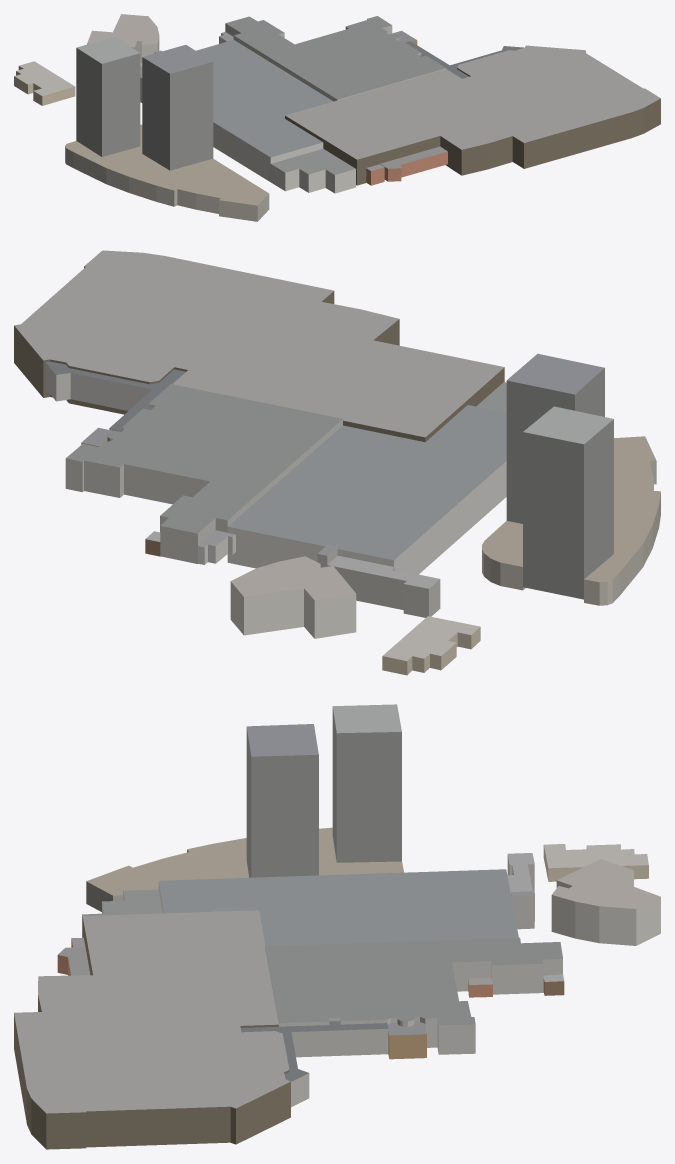
The picture shows the model from 3 angles, top to bottom: view 1: azimuth 30°, elevation 25°; view 2: azimuth 150°, elevation 25°; view 3: azimuth 270°, elevation 25°; orthographic projection. The views are drawn at different scales.
Visible parts, largest first — view 1: tuile; view 2: tuile; view 3: tuile.
Part boxes in pixels (left/top/right/bottom): tuile: left=14, top=14, right=660, bottom=221; tuile: left=14, top=250, right=660, bottom=675; tuile: left=14, top=704, right=660, bottom=1149.
Size of the model in its own units: 263 by 60.09 by 224.
